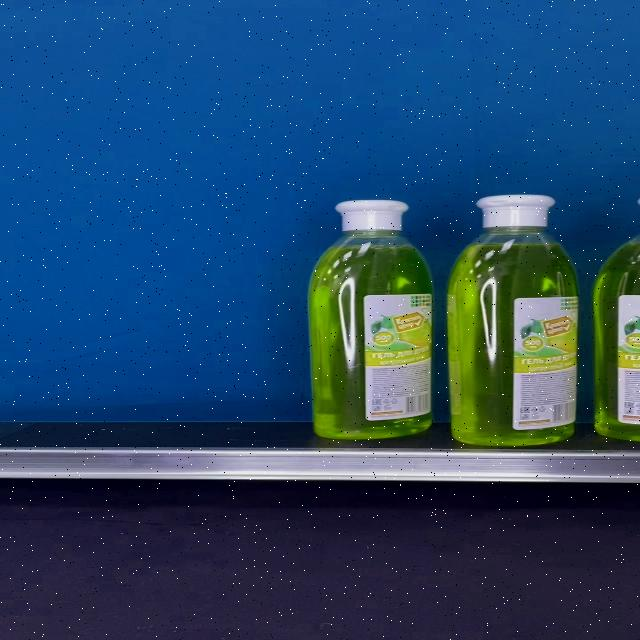Bottle: (446, 194, 578, 446), (310, 199, 432, 440)
Cap: (474, 195, 556, 228), (335, 200, 410, 230)
